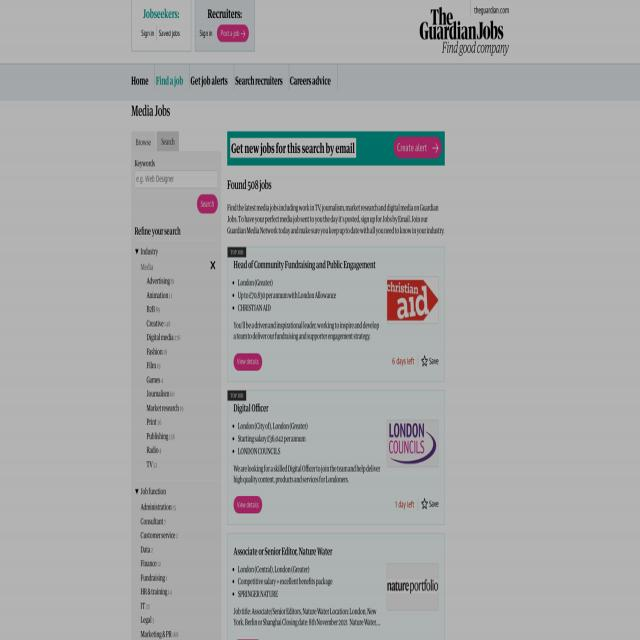button: (419, 0, 509, 61), (386, 420, 438, 468), (386, 563, 438, 611), (386, 277, 438, 324), (234, 64, 289, 101), (289, 64, 337, 101), (134, 240, 218, 261), (134, 480, 218, 501), (190, 64, 234, 101), (155, 64, 190, 101), (394, 137, 442, 158), (131, 64, 155, 101), (217, 24, 249, 42), (234, 353, 262, 370), (234, 496, 262, 513), (197, 195, 217, 213), (422, 355, 438, 366), (422, 498, 438, 509)
field: (134, 170, 218, 188)
